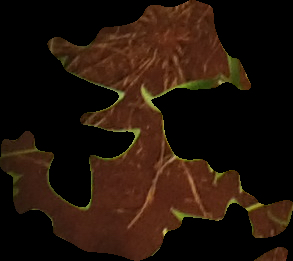soil: (3, 1, 291, 260)
